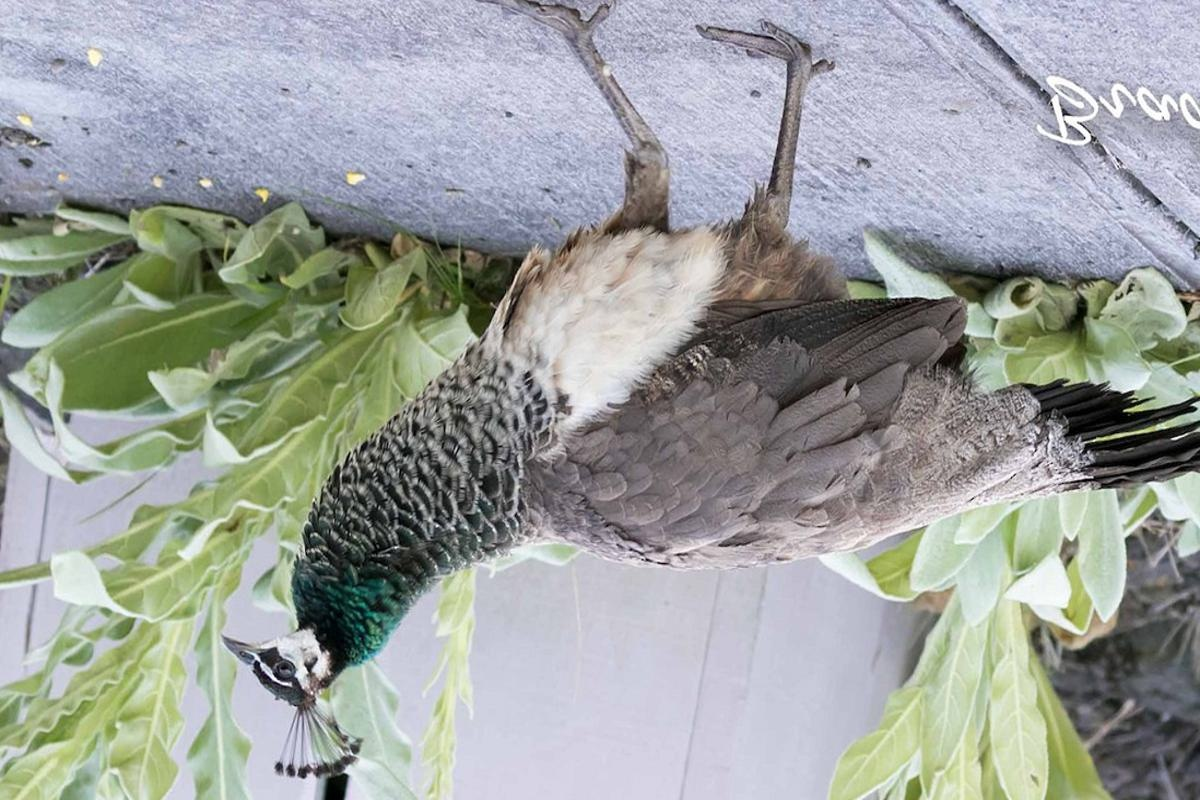peacock: (241, 180, 949, 782)
